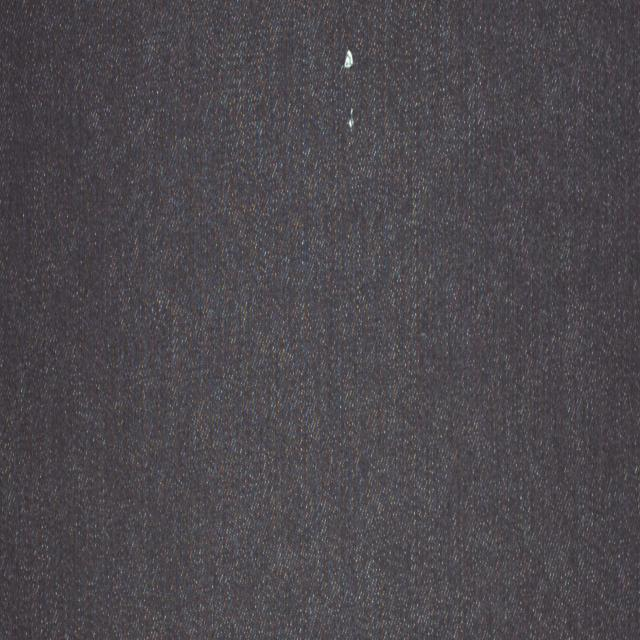Knot: (344, 49, 354, 68), (348, 107, 355, 130)
